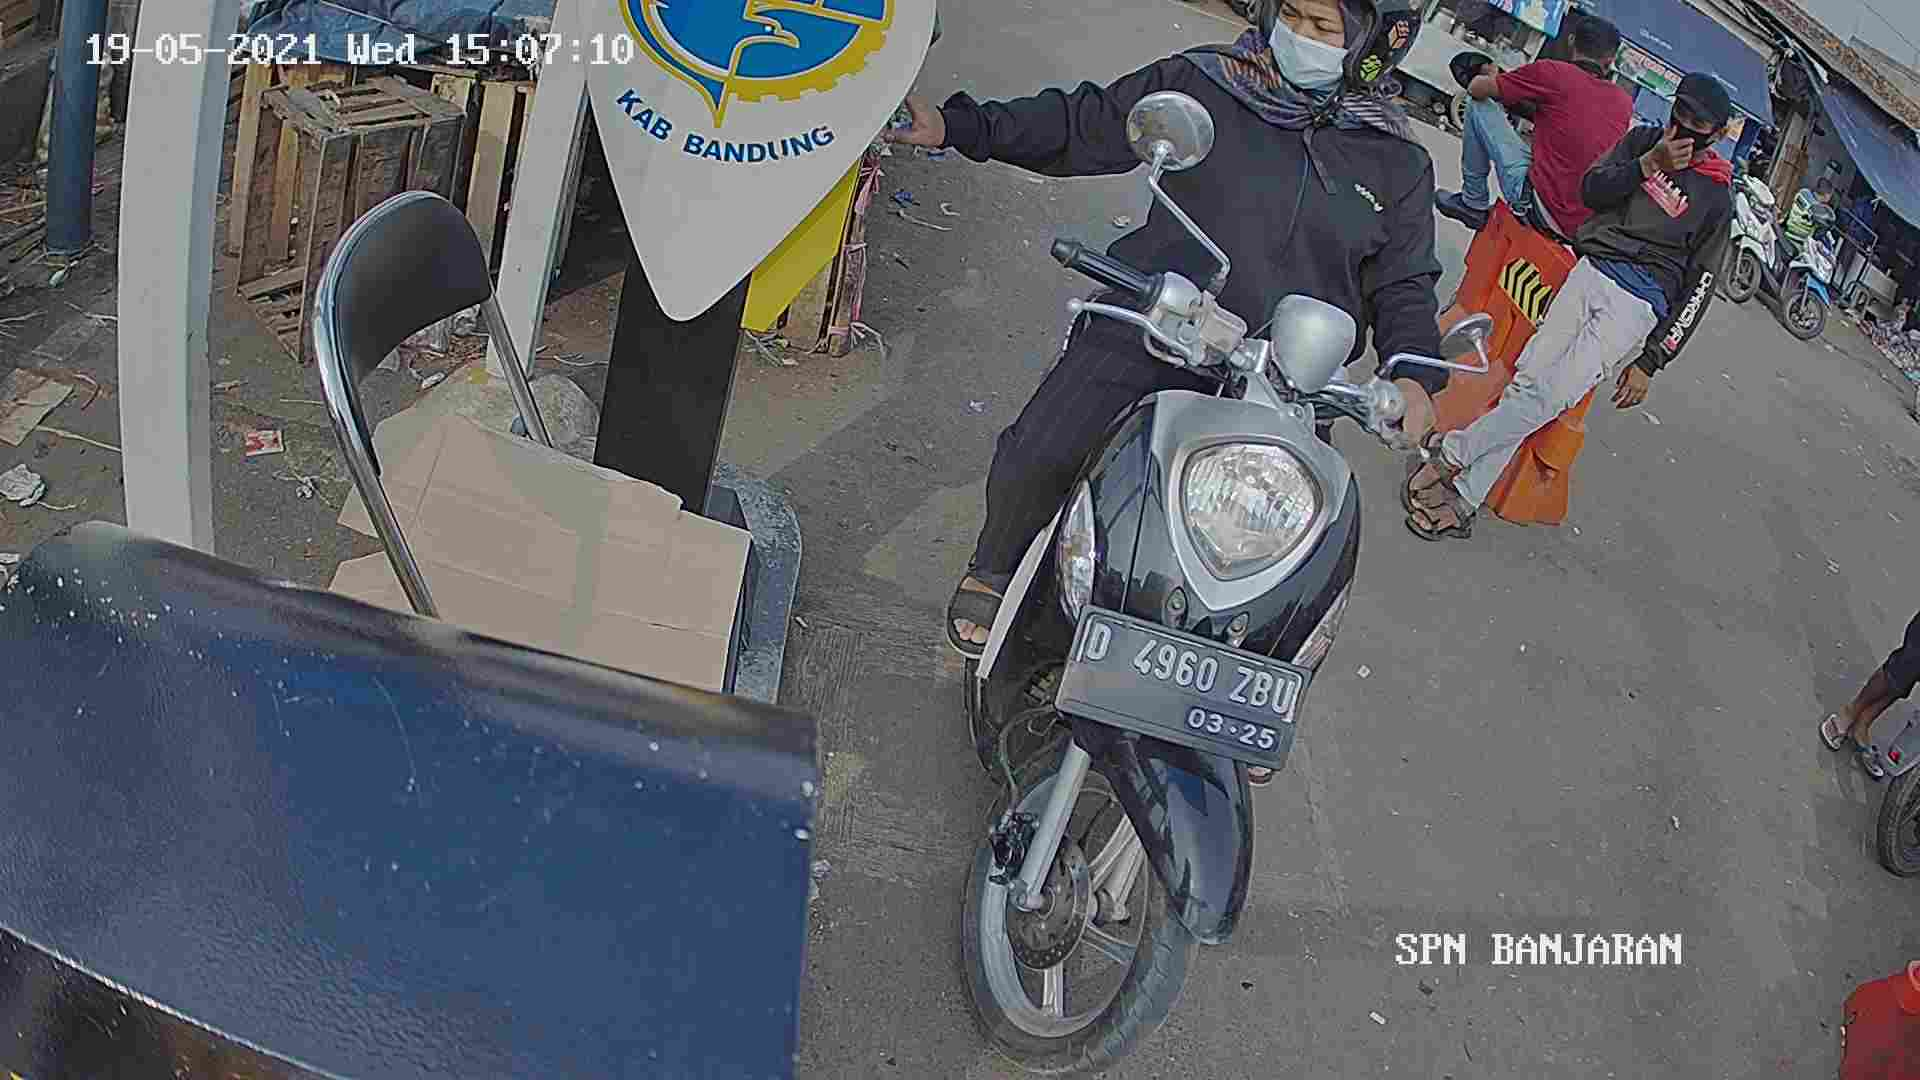motor: (913, 222, 1419, 1029)
